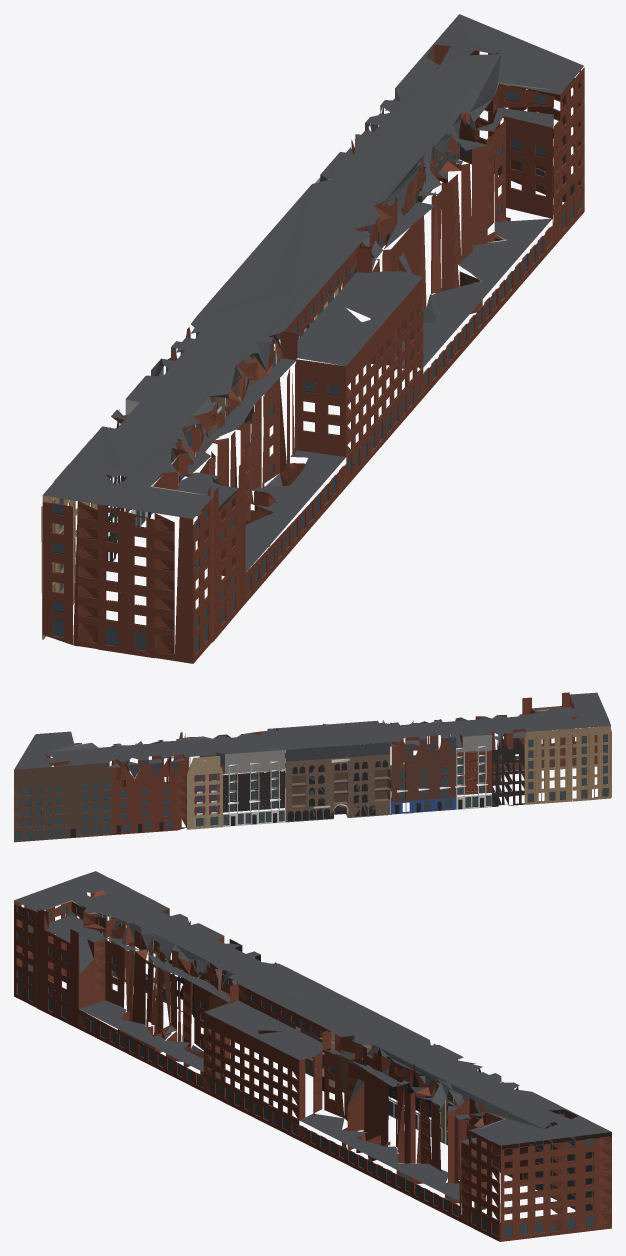
The model's file is wiborgeiland-76.lod1.glb.
The picture shows the model from 3 angles, top to bottom: view 1: azimuth 30°, elevation 25°; view 2: azimuth 150°, elevation 25°; view 3: azimuth 270°, elevation 25°; orthographic projection. The views are drawn at different scales.
Visible parts, largest first — view 1: wiborgeiland-76; view 2: wiborgeiland-76; view 3: wiborgeiland-76.
Boxes of the visible parts, x1,y1,x2,y2 form: wiborgeiland-76: (41, 14, 584, 663); wiborgeiland-76: (14, 692, 611, 842); wiborgeiland-76: (14, 871, 611, 1241).
Size of the model in its own units: 122 by 21.55 by 112.
